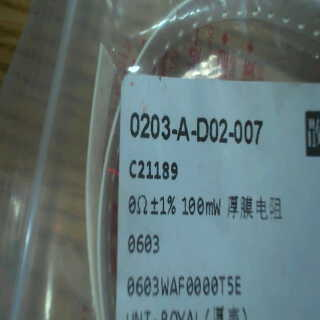0R: (124, 191, 227, 258)
